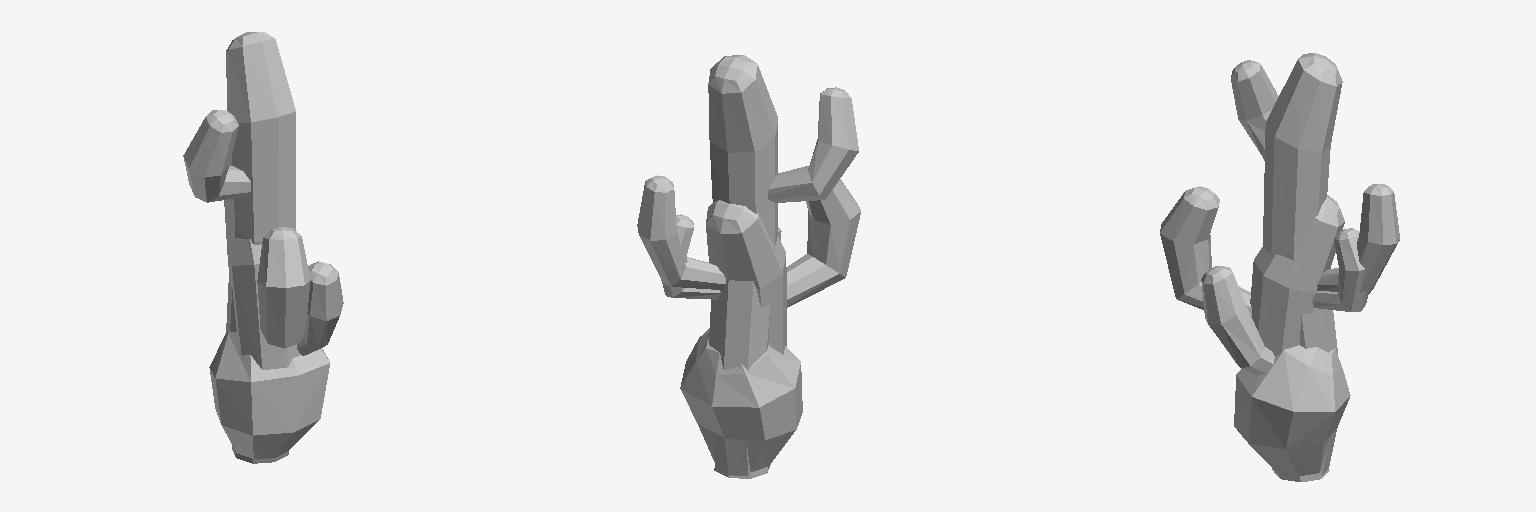
File: cactuses.obj
The picture shows the model from 3 angles: view 1: azimuth 30°, elevation 25°; view 2: azimuth 150°, elevation 25°; view 3: azimuth 270°, elevation 25°; orthographic projection.
Parts seen in each view (by area): view 1: Cactus1.001_Cube.006, Cactus1.002_Cube.008, Cactus1_Cube.001; view 2: Cactus1.001_Cube.006, Cactus1_Cube.001, Cactus1.002_Cube.008; view 3: Cactus1.001_Cube.006, Cactus1_Cube.001, Cactus1.002_Cube.008.
Part boxes in pixels (x1,y1,x2,y2): Cactus1.001_Cube.006: (183,32,343,355); Cactus1.002_Cube.008: (209,331,329,458); Cactus1_Cube.001: (224,199,310,463); Cactus1.001_Cube.006: (637,55,858,476); Cactus1_Cube.001: (661,179,860,478); Cactus1.002_Cube.008: (680,328,802,471); Cactus1.001_Cube.006: (1201,53,1399,475); Cactus1_Cube.001: (1160,186,1367,481); Cactus1.002_Cube.008: (1234,345,1350,476).
Size of the model in its own units: 7.27 by 18.19 by 9.56.